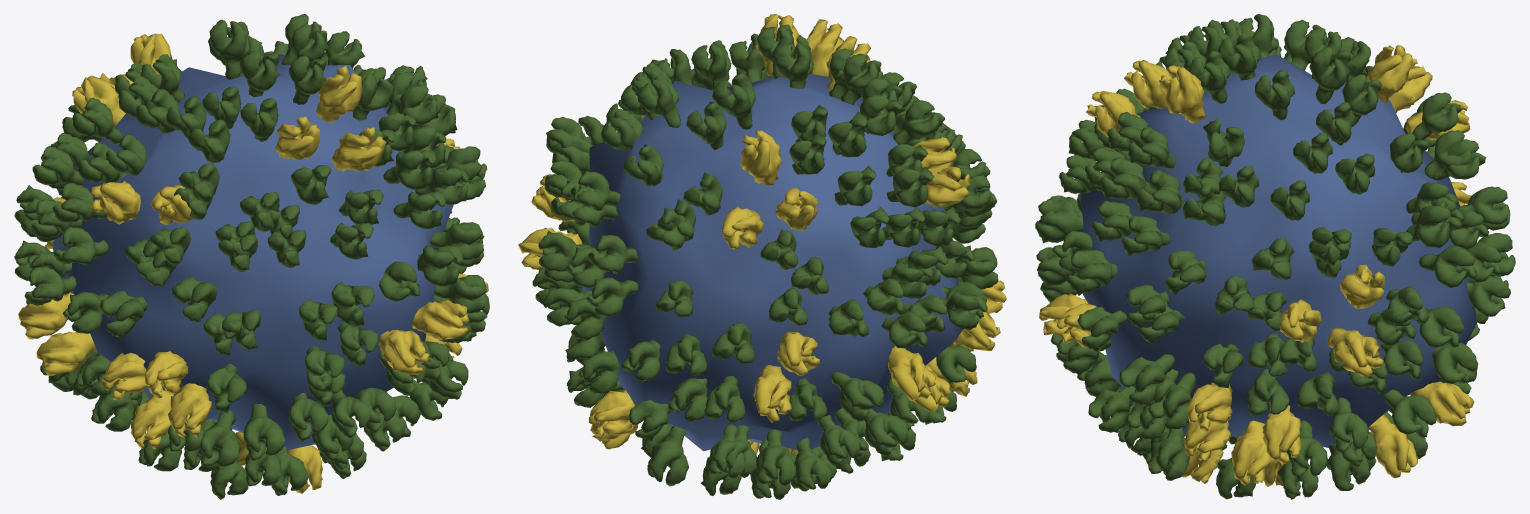
The picture shows the model from 3 angles, left to right: view 1: azimuth 30°, elevation 25°; view 2: azimuth 150°, elevation 25°; view 3: azimuth 270°, elevation 25°; orthographic projection. The views are drawn at different scales.
Parts seen in each view (by area): view 1: object 1, object 61, Plane.018, Plane.015, Plane.019, Plane.016, Cube.143, Cube.142, Cube.164, Cube.124, Cube.150, Cube.148 (+31 smaller); view 2: object 1, object 61, Plane.002, Cube.176, Cube.177, Cube.153, Cube.114, Cube.120, Cube.155, Cube.101, Cube.139, Cube.143 (+26 smaller); view 3: object 1, object 61, Plane.004, Plane.005, Plane.007, Plane.002, Plane.016, Cube.191, Plane.006, Cube.167, Cube.148, Cube.125 (+25 smaller).
Boxes of the visible parts, x1,y1,x2,y2 form: object 1: [14, 14, 489, 499]; object 61: [18, 65, 488, 465]; Plane.018: [168, 383, 212, 438]; Plane.015: [378, 329, 430, 374]; Plane.019: [144, 351, 188, 398]; Plane.016: [275, 116, 319, 160]; Cube.143: [24, 267, 76, 305]; Cube.142: [32, 146, 83, 185]; Cube.164: [331, 389, 371, 437]; Cube.124: [288, 55, 326, 104]; Cube.150: [430, 222, 483, 260]; Cube.148: [433, 275, 486, 313]; object 1: [538, 40, 998, 499]; object 61: [538, 14, 1000, 454]; Plane.002: [740, 130, 782, 185]; Cube.176: [818, 415, 860, 465]; Cube.177: [794, 437, 832, 491]; Cube.153: [588, 234, 637, 274]; Cube.114: [686, 101, 726, 150]; Cube.120: [840, 54, 881, 104]; Cube.155: [881, 311, 928, 348]; Cube.101: [570, 170, 620, 210]; Cube.139: [863, 278, 906, 315]; Cube.143: [940, 292, 987, 330]; object 1: [1035, 14, 1515, 499]; object 61: [1056, 58, 1477, 485]; Plane.004: [1368, 414, 1417, 478]; Plane.005: [1327, 327, 1383, 376]; Plane.007: [1262, 403, 1301, 463]; Plane.002: [1367, 45, 1412, 104]; Plane.016: [1124, 60, 1172, 108]; Cube.191: [1148, 428, 1187, 480]; Plane.006: [1339, 264, 1384, 309]; Cube.167: [1088, 386, 1135, 432]; Cube.148: [1077, 307, 1127, 351]; Cube.125: [1128, 126, 1175, 168].
Size of the model in its own units: 2.73 by 2.55 by 2.55.
